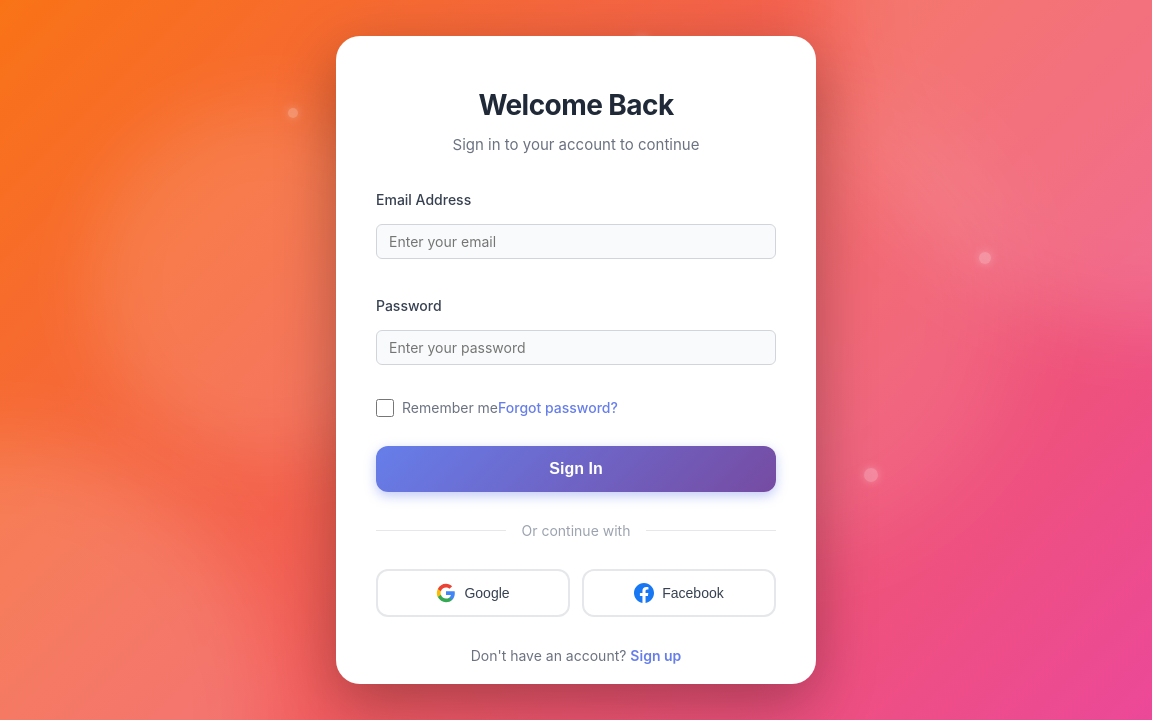
Login › shows error for invalid email
In the field with placeholder "Enter your email": [576, 241] box [376,224,776,258], type "bad"
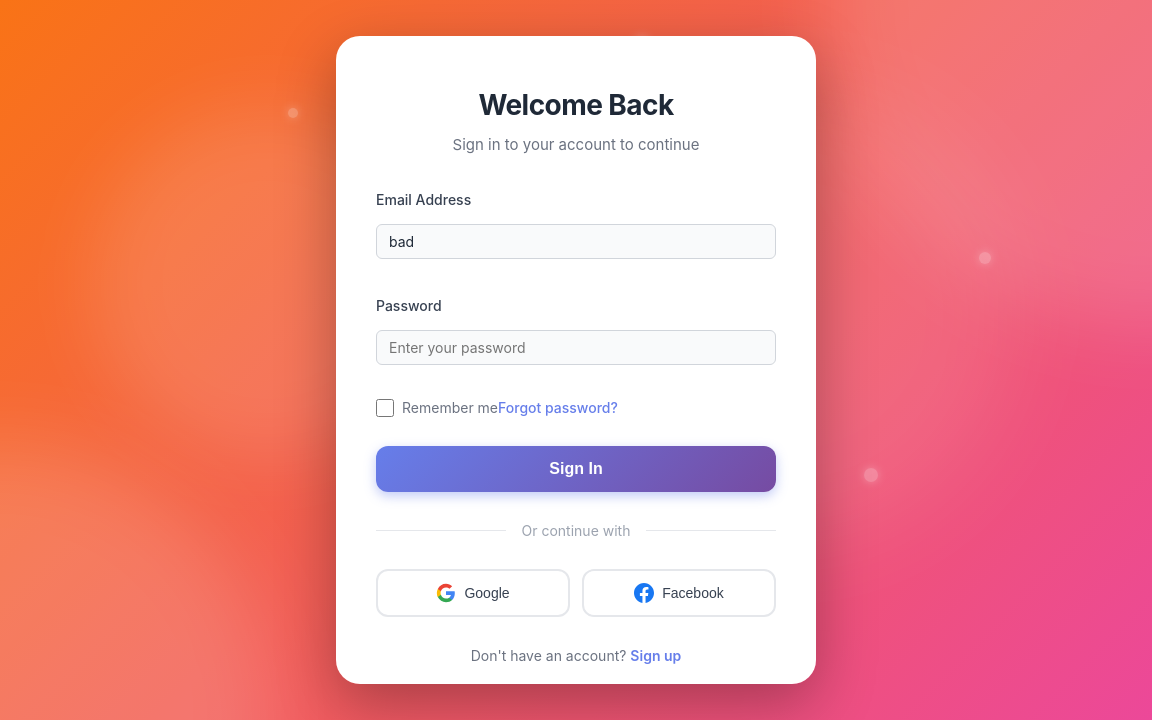
In the password field with placeholder "Enter your password": [576, 347] box [376,330,776,364], type "password1"
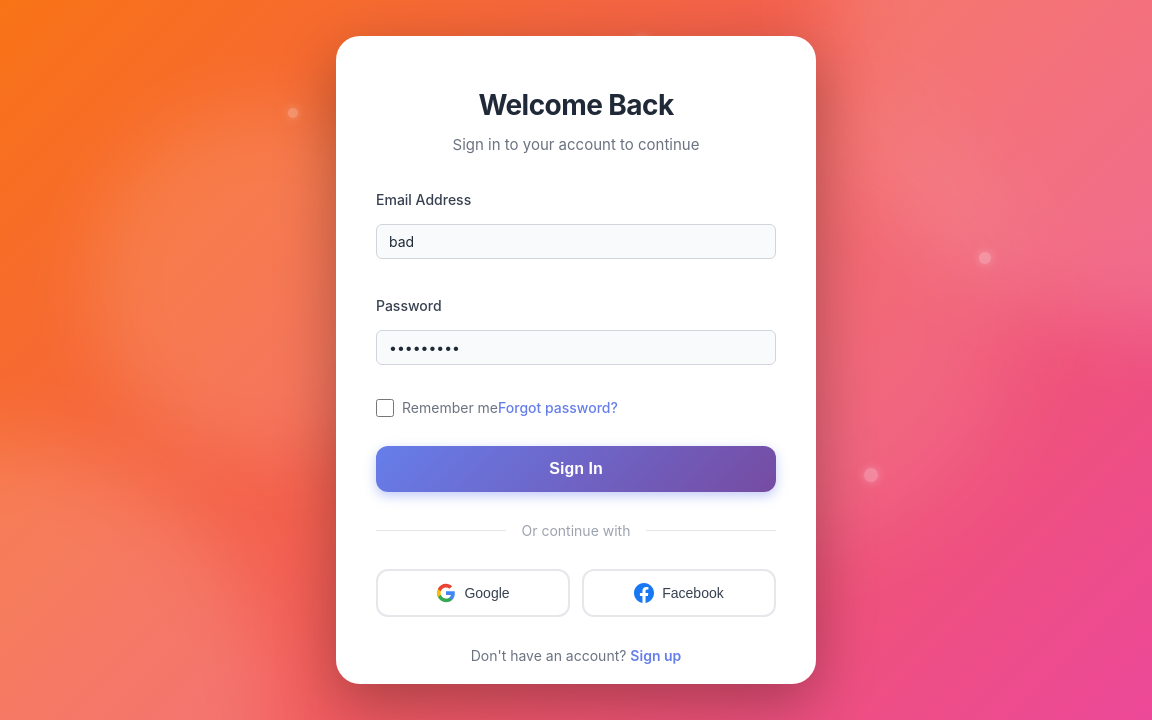
Submit the form with placeholder "enter your email", box [376,188,776,666]
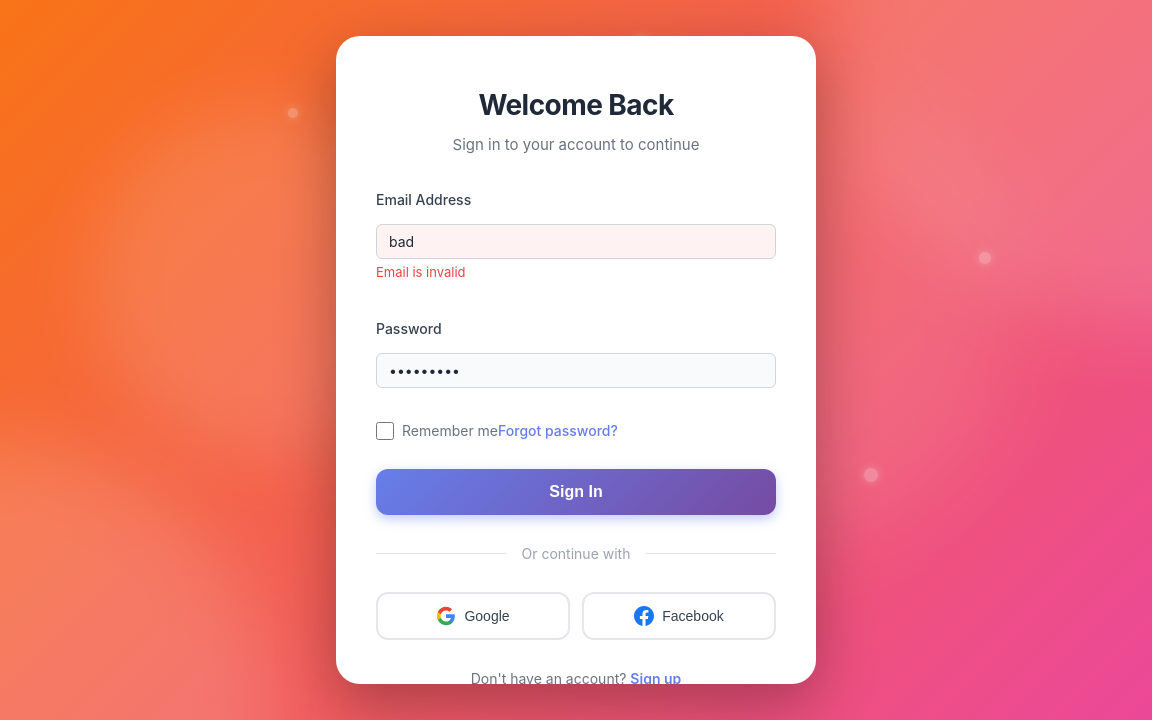
expect the text "Email is invalid" is shown: met, box [376,264,466,280]
